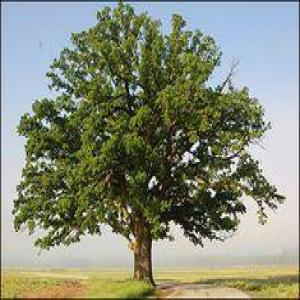Tree: (12, 2, 284, 281)
